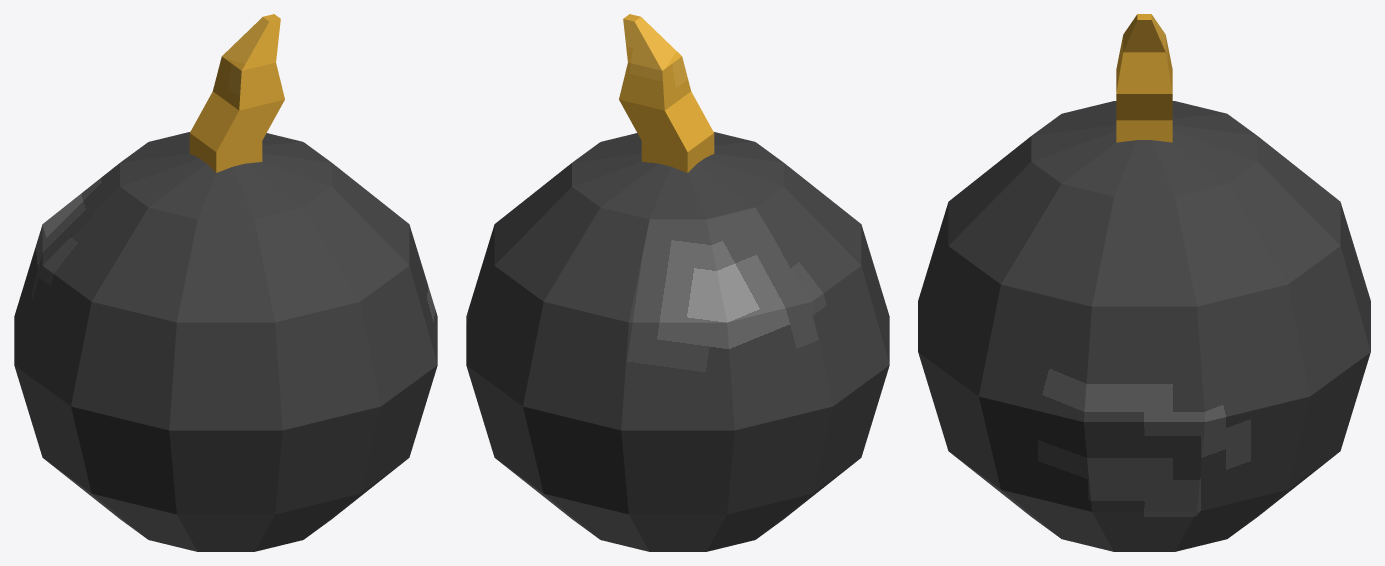
The model's file is bomb.fbx.
3 views of the same model, side by side, from view 1: azimuth 30°, elevation 25°; view 2: azimuth 150°, elevation 25°; view 3: azimuth 270°, elevation 25° (orthographic). The views are drawn at different scales.
Visible parts, largest first — view 1: base, tail; view 2: base, tail; view 3: base, tail.
Boxes of the visible parts, x1,y1,x2,y2 form: base: [14, 132, 437, 551]; tail: [189, 14, 284, 172]; base: [466, 132, 889, 551]; tail: [619, 14, 714, 172]; base: [918, 101, 1370, 551]; tail: [1116, 14, 1172, 142].
Size of the model in its own units: 100 by 131 by 100.
1 material, 1 textured.
